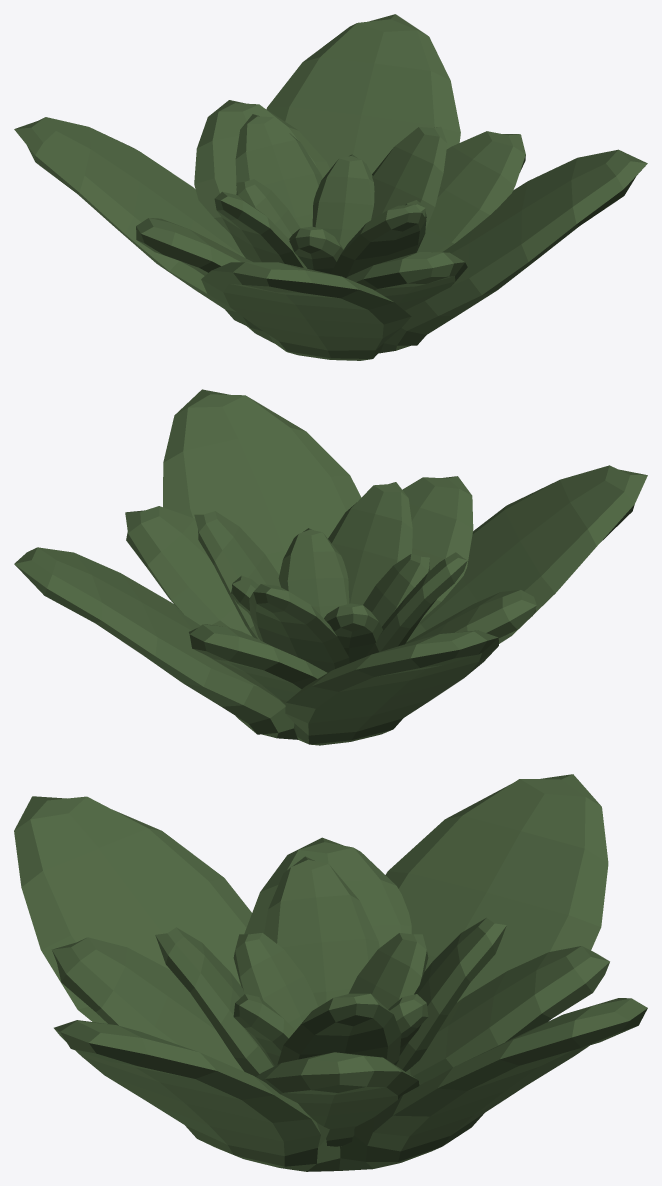
Rendered from LeafyPlant.glb.
3 views of the same model, one above another, from view 1: azimuth 30°, elevation 25°; view 2: azimuth 150°, elevation 25°; view 3: azimuth 270°, elevation 25° (orthographic). The views are drawn at different scales.
Visible parts, largest first — view 1: CactusFlower_1_Plane.012; view 2: CactusFlower_1_Plane.012; view 3: CactusFlower_1_Plane.012.
Boxes of the visible parts, x1,y1,x2,y2 form: CactusFlower_1_Plane.012: (14, 14, 647, 360); CactusFlower_1_Plane.012: (14, 389, 647, 745); CactusFlower_1_Plane.012: (14, 774, 647, 1171).
Size of the model in its own units: 0.8819 by 0.3613 by 0.8683.
